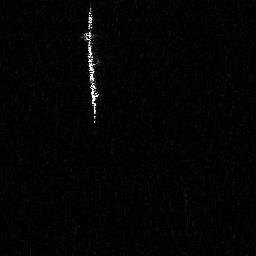ship: (78, 3, 104, 135)
